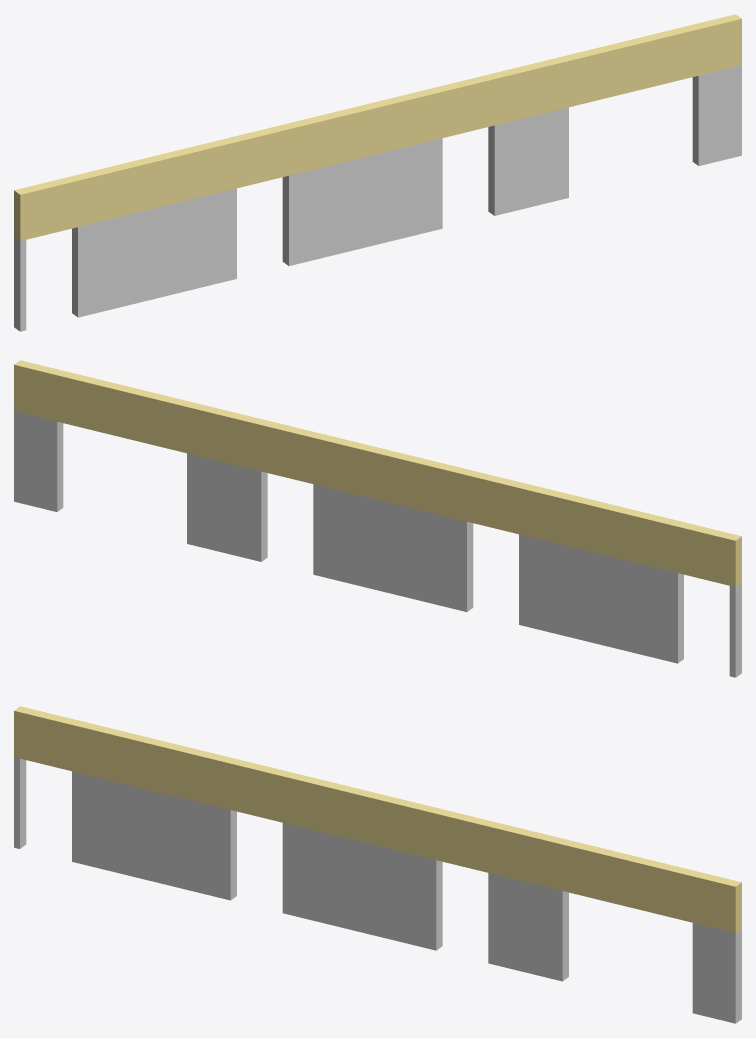
Rendered from Level_3_InnerWall_01.fbx.
3 renders of one model, top to bottom at view 1: azimuth 30°, elevation 25°; view 2: azimuth 150°, elevation 25°; view 3: azimuth 330°, elevation 25°, orthographic.
Visible parts, largest first — view 1: L3_UpperWalls_1; view 2: L3_UpperWalls_1; view 3: L3_UpperWalls_1.
Part boxes in pixels (box(x1,y1,x2,y2)): L3_UpperWalls_1: box(14, 14, 741, 331); L3_UpperWalls_1: box(14, 360, 741, 677); L3_UpperWalls_1: box(14, 706, 741, 1023).
Size of the model in its own units: 1668 by 302 by 25.
